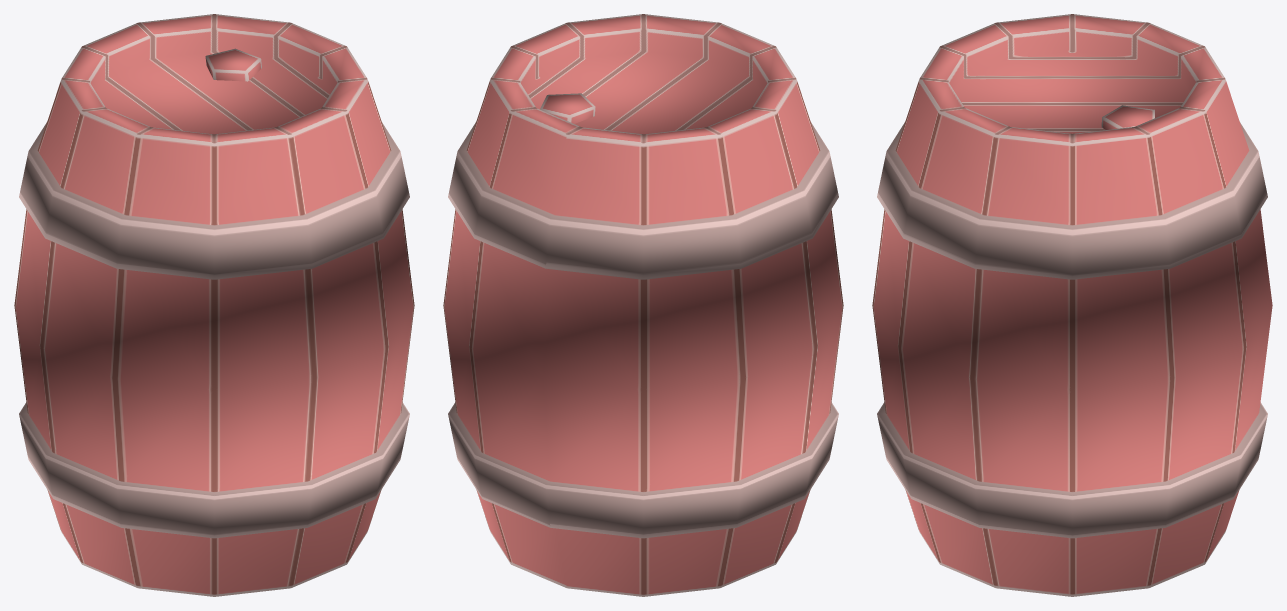
Rendered from Barrel 1.fbx.
The picture shows the model from 3 angles, left to right: view 1: azimuth 30°, elevation 25°; view 2: azimuth 150°, elevation 25°; view 3: azimuth 270°, elevation 25°; orthographic projection.
Parts seen in each view (by area): view 1: Barrel; view 2: Barrel; view 3: Barrel.
Boxes of the visible parts, x1,y1,x2,y2 form: Barrel: [14, 14, 414, 596]; Barrel: [443, 14, 843, 596]; Barrel: [872, 14, 1272, 596].
Size of the model in its own units: 71.95 by 90 by 71.95.
